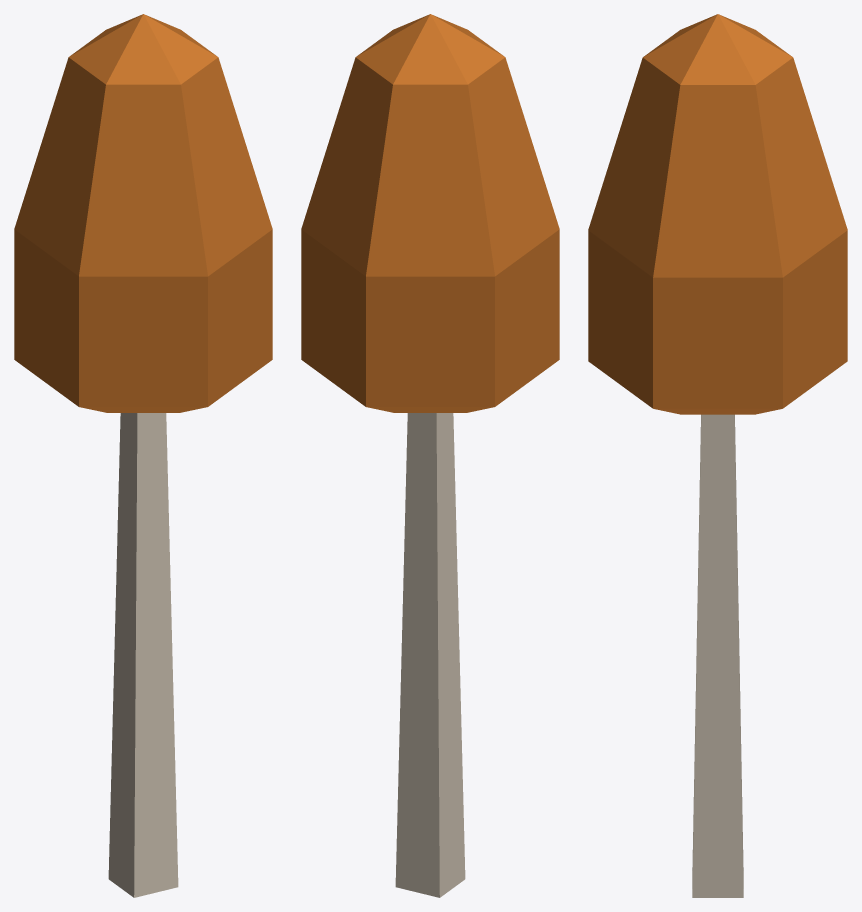
Rendered from tree_simple_fall.glb.
3 renders of one model, left to right at view 1: azimuth 30°, elevation 25°; view 2: azimuth 150°, elevation 25°; view 3: azimuth 270°, elevation 25°, orthographic.
Visible parts, largest first — view 1: tree_simple_fall; view 2: tree_simple_fall; view 3: tree_simple_fall.
Part boxes in pixels (x1,y1,x2,y2): tree_simple_fall: [14, 14, 272, 897]; tree_simple_fall: [301, 14, 559, 897]; tree_simple_fall: [588, 14, 847, 897].
Size of the model in its own units: 0.3546 by 1.52 by 0.4095.
